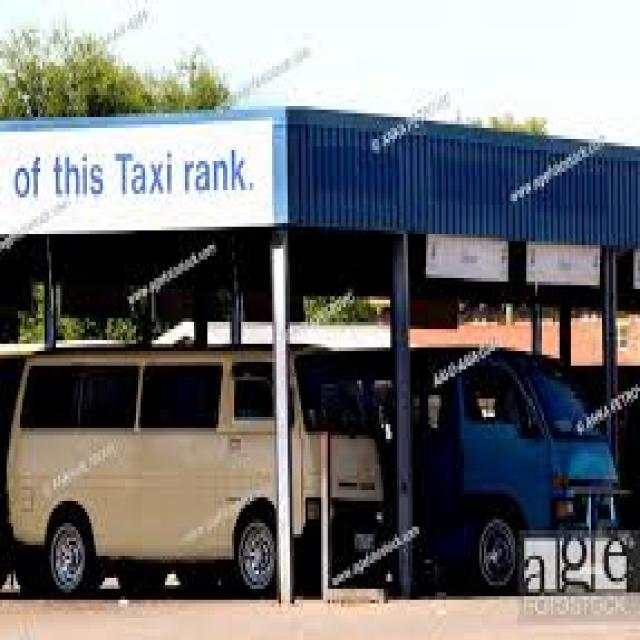MiniBus taxi: (4, 344, 388, 614), (403, 336, 638, 611)
